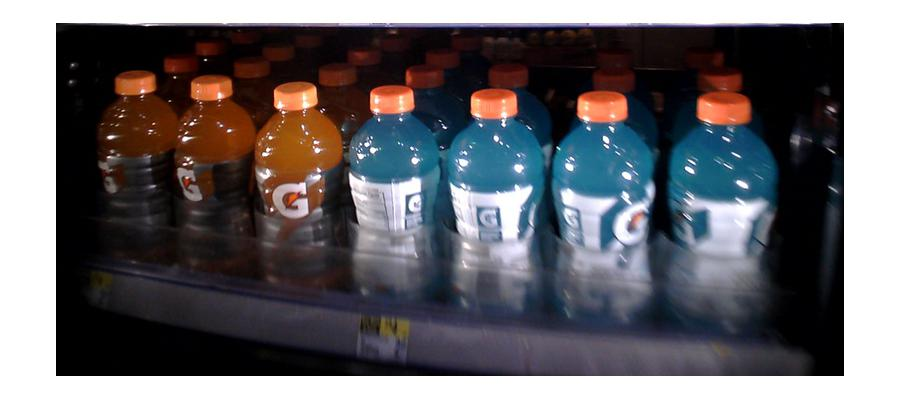bottle: (669, 83, 772, 339), (549, 97, 657, 333), (448, 88, 548, 325), (347, 88, 440, 312), (252, 82, 337, 294), (97, 70, 172, 265), (174, 77, 247, 276)
